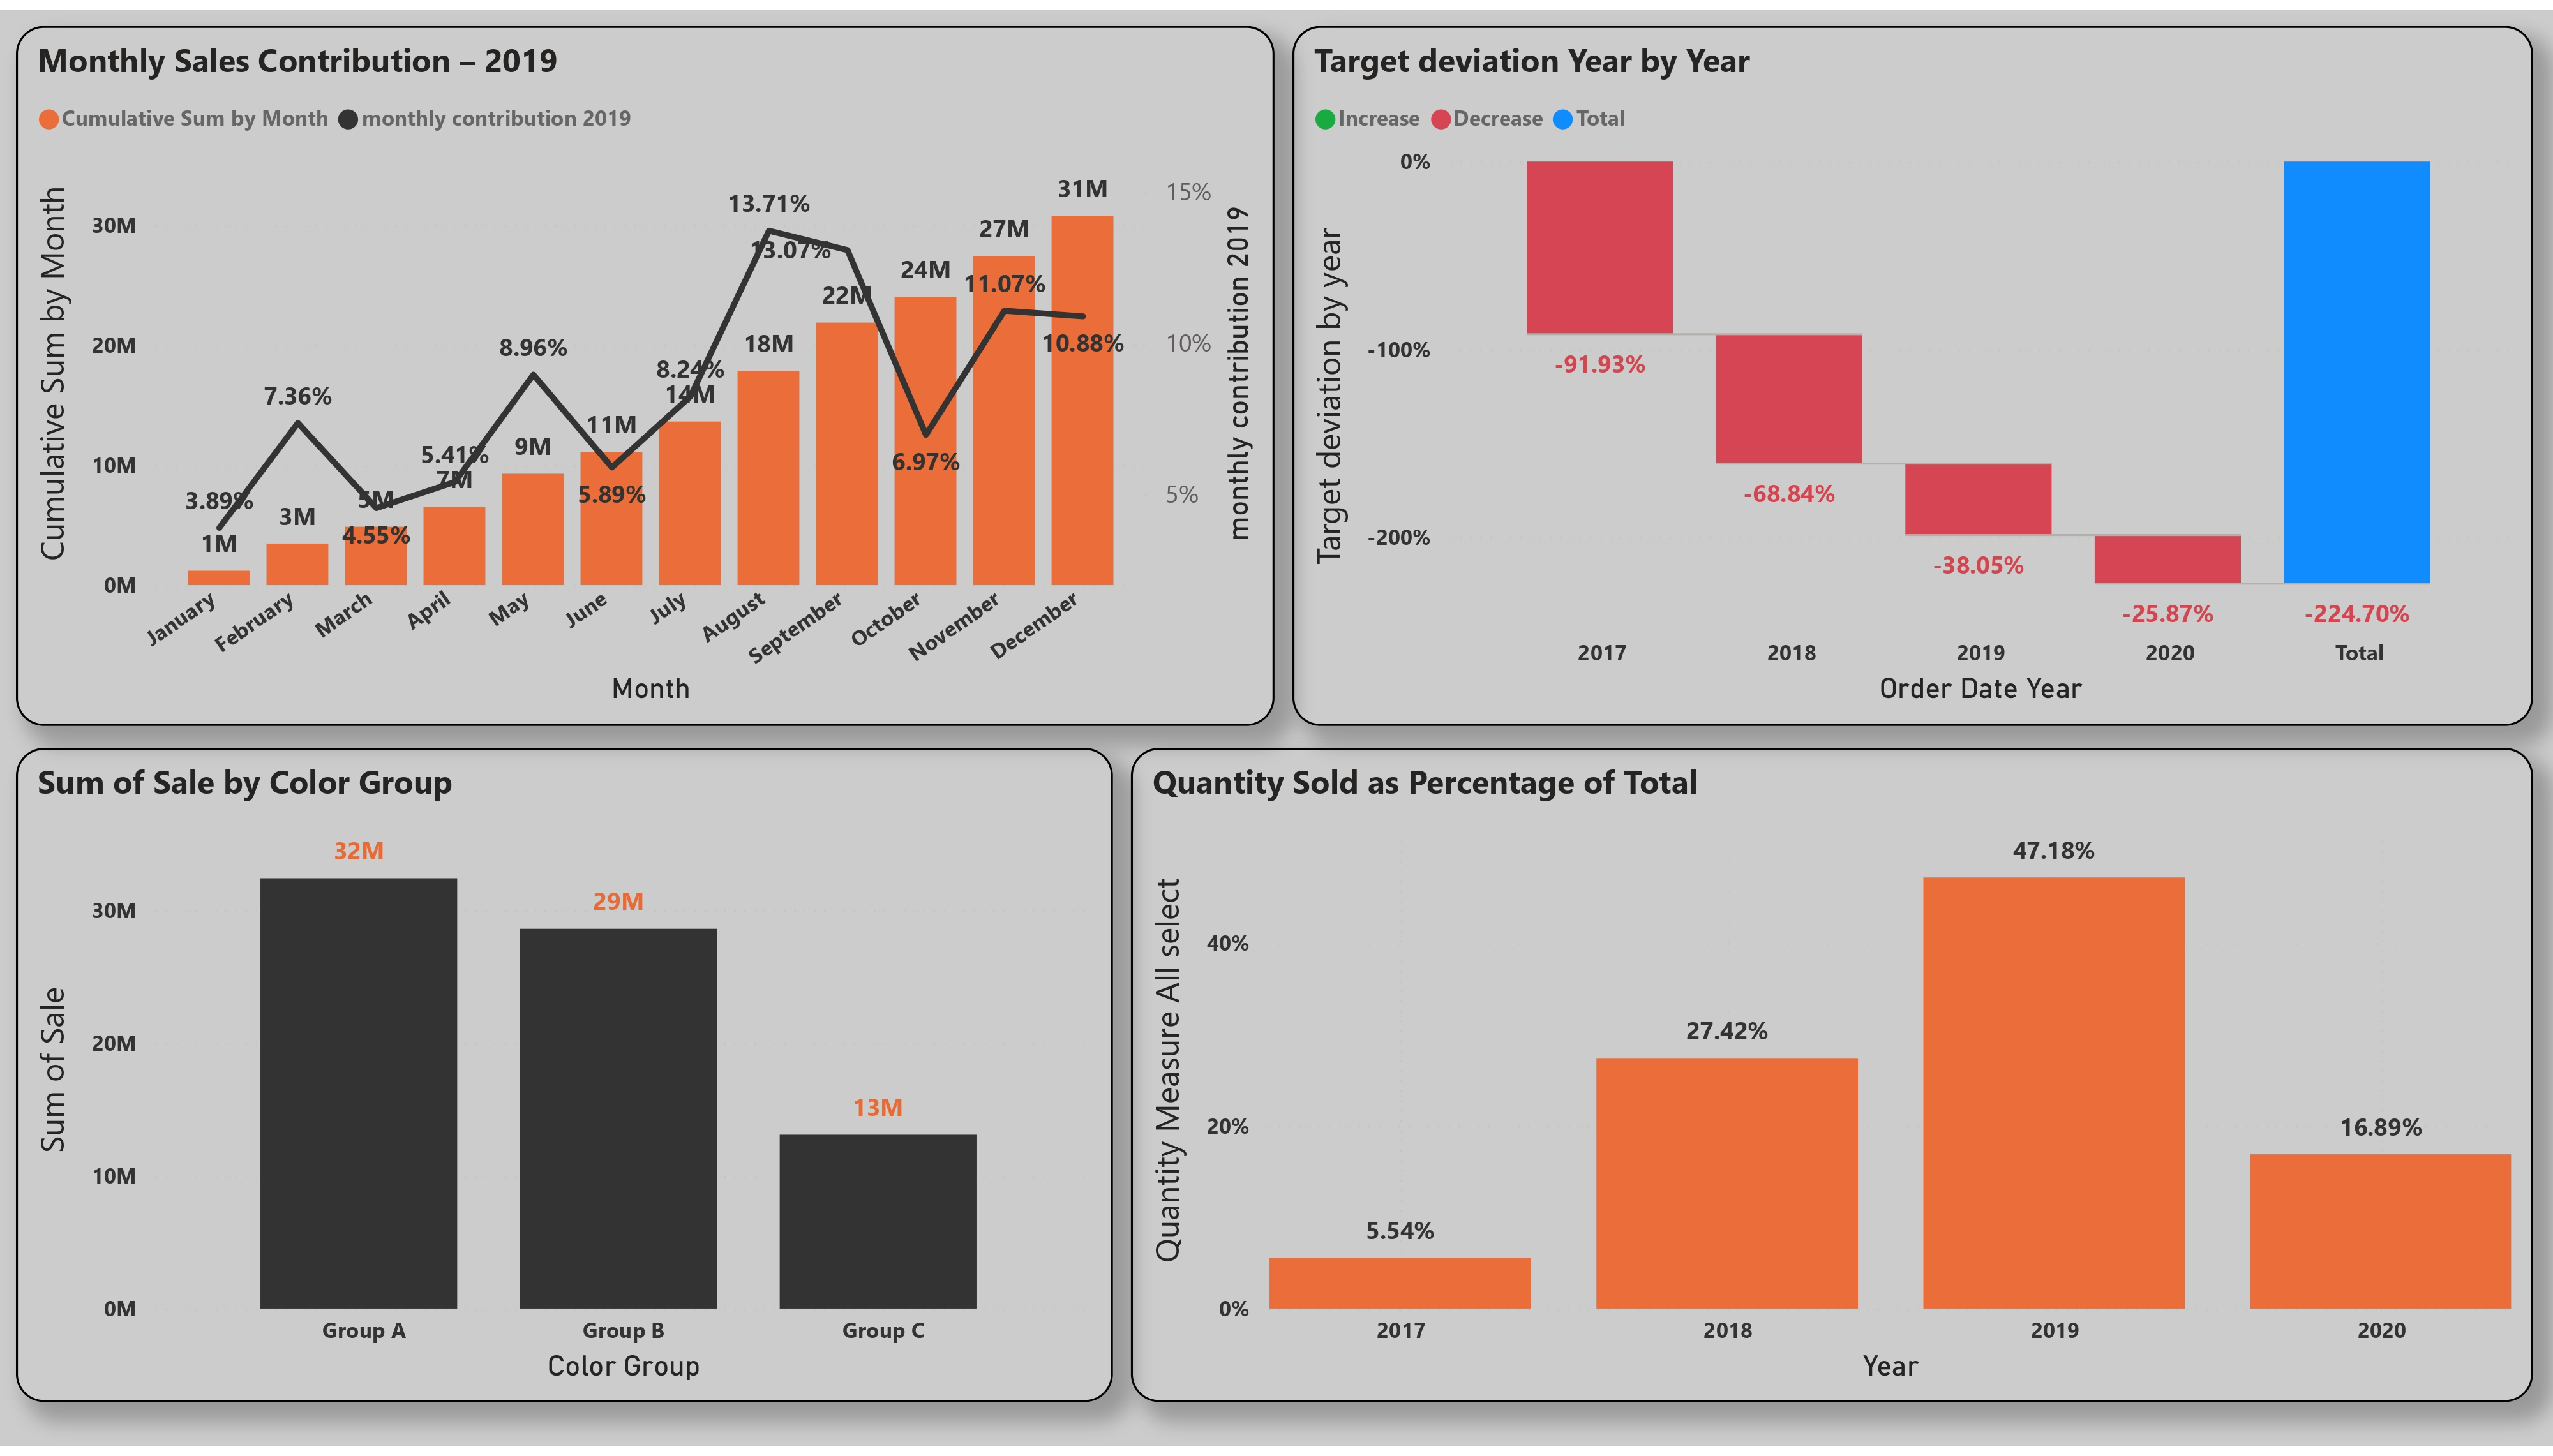

Layout of this report page (visuals, bound fields, positions):
{"tool":"powerbi","page":{"name":"6","canvas":[1280,720],"ordinal":5},"visuals":[{"type":"lineClusteredColumnComboChart","title":"Monthly Sales Contribution – 2019","fields":{"Category":["Sales.Order Date.Variation.Date Hierarchy.Month"],"Y":["Table.Cumulative Sum by Month"],"Y2":["Table.monthly contribution 2019"]},"box":[8.4,8.4,631,351.1],"z":0},{"type":"clusteredColumnChart","title":"Quantity Sold as Percentage of Total","fields":{"Category":["Sales.Order Date.Variation.Date Hierarchy.Year","Sales.EmployeeKey"],"Y":["Table.Quantity Measure All select"]},"box":[567,370.4,703.4,328.2],"z":1000},{"type":"clusteredColumnChart","fields":{"Category":["Sales.Color Group"],"Y":["Sum(Sales.Sale)"]},"box":[8.4,370.4,550.1,328.2],"z":2000},{"type":"waterfallChart","title":"Target deviation Year by Year","fields":{"Category":["Sales.Order Date.Variation.Date Hierarchy.Year"],"Y":["Table.Target deviation by year"]},"box":[648.4,8.4,622,351.2],"z":3000}]}

Visuals, with their boxes in screenshot pixels (x1, y1, x2, y2), scaled from the page's 1280x720 canvas onto the 2553x1456 screenshot:
"Monthly Sales Contribution – 2019" lineClusteredColumnComboChart: [x1=17, y1=17, x2=1275, y2=727]
"Quantity Sold as Percentage of Total" clusteredColumnChart: [x1=1131, y1=749, x2=2534, y2=1413]
clusteredColumnChart - Sales.Color Group x Sum(Sales.Sale): [x1=17, y1=749, x2=1114, y2=1413]
"Target deviation Year by Year" waterfallChart: [x1=1293, y1=17, x2=2534, y2=727]
